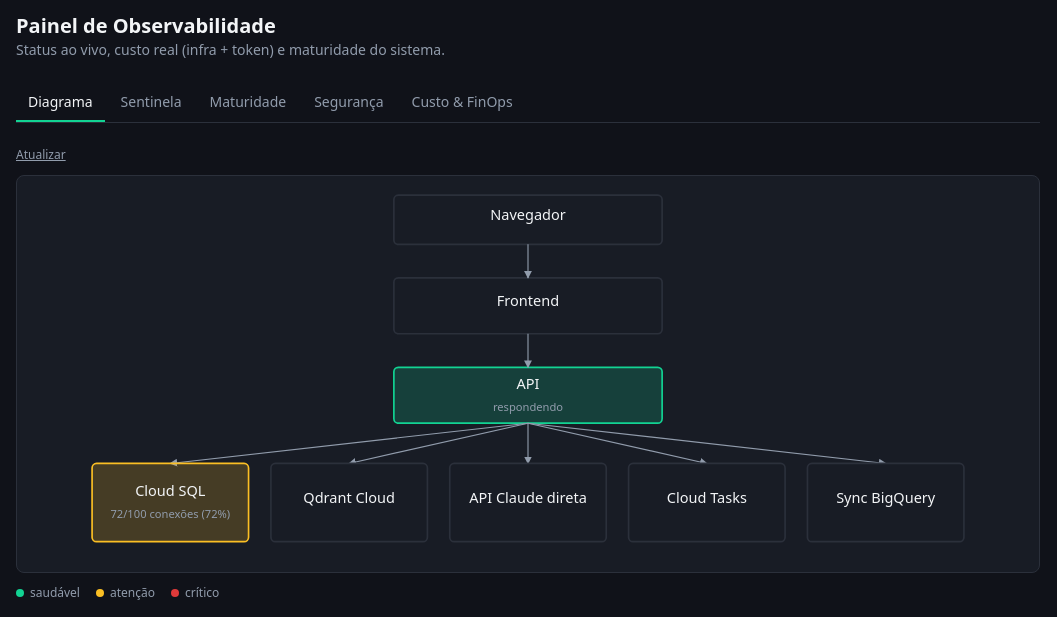
Scenario: PainelPage › troca para a aba Maturidade e mostra as 3 notas
Click the tab "Maturidade" at (248, 103), box [198,84,298,122]
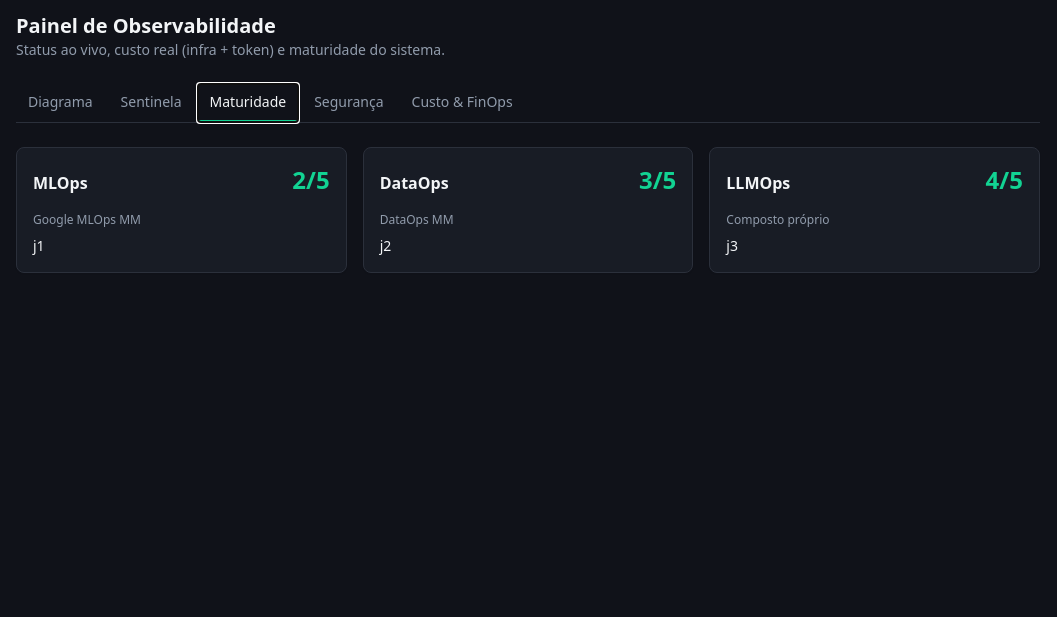
Check: the heading "MLOps" is shown, box [33,171,88,195]
Check: the text "2/5" is shown, box [292,164,330,196]
Check: the text "3/5" is shown, box [639,164,676,196]
